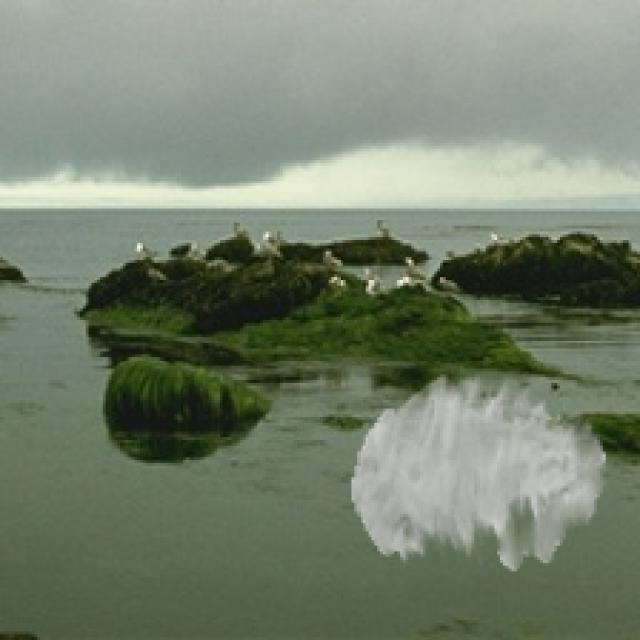Smoke: (351, 372, 606, 572)
